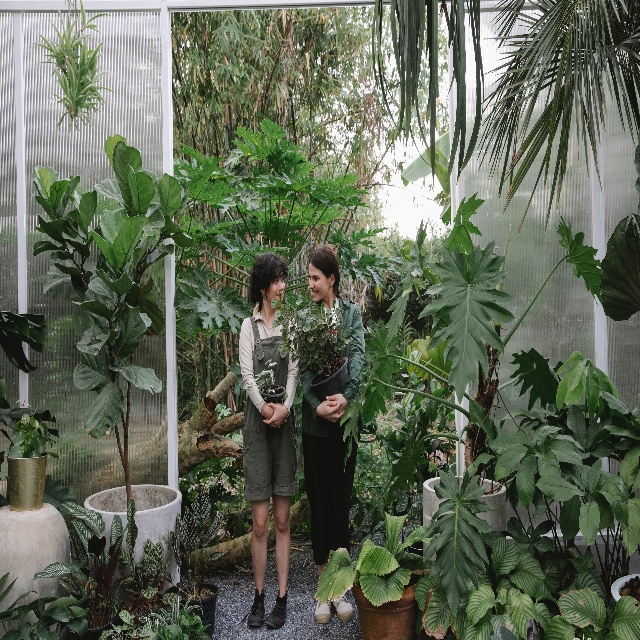Sin_guantes: (317, 399, 346, 423), (262, 402, 288, 428), (326, 393, 349, 413)
